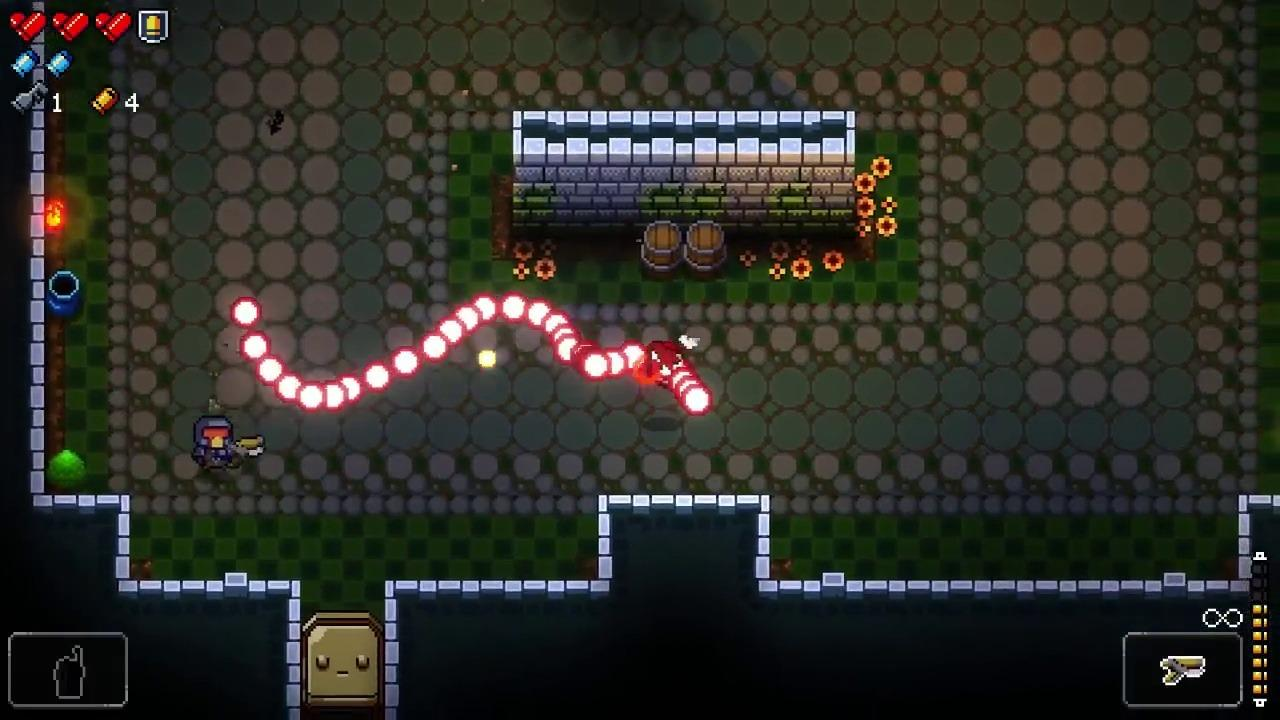bullet: (230, 297, 262, 329), (581, 349, 612, 382), (680, 388, 714, 417), (619, 341, 649, 373), (240, 330, 270, 361), (298, 383, 328, 413), (471, 293, 501, 323), (527, 298, 556, 329), (362, 360, 391, 389), (555, 335, 583, 365), (391, 347, 419, 376), (503, 292, 529, 323), (437, 316, 465, 344), (278, 372, 301, 405), (336, 374, 362, 403), (456, 305, 482, 334), (421, 331, 446, 360), (257, 357, 284, 383), (321, 383, 342, 413)
locked_door: (301, 610, 383, 711)
player: (192, 415, 236, 471)
